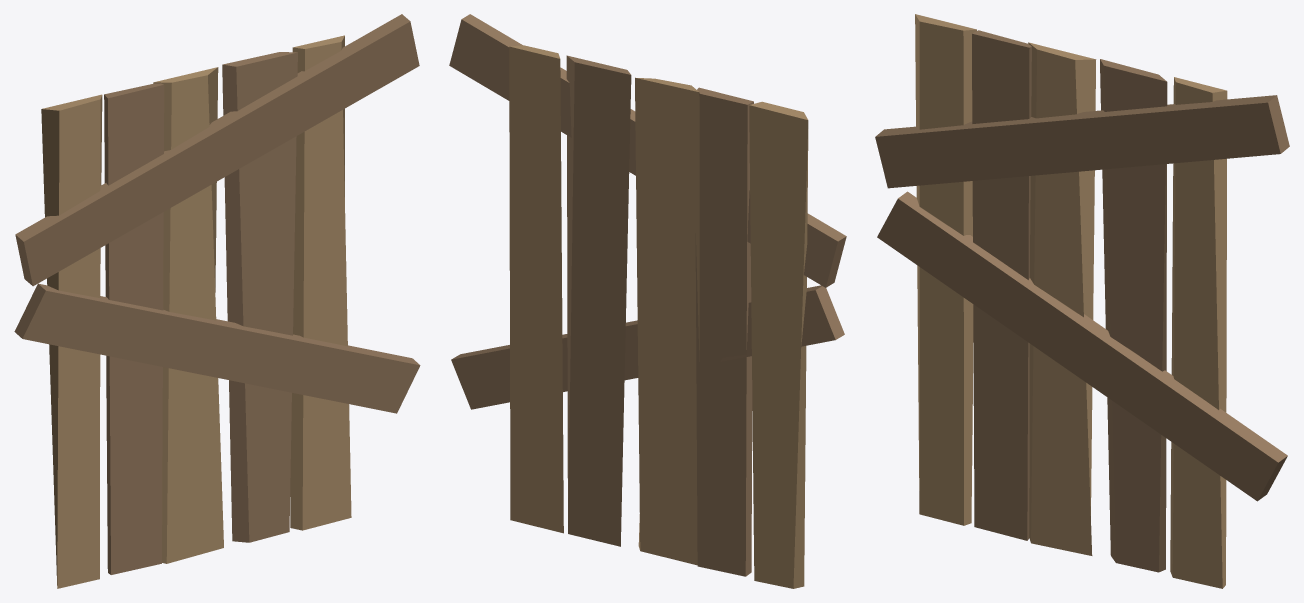
File: D1_door_shatter.fbx
3 renders of one model, left to right at view 1: azimuth 30°, elevation 25°; view 2: azimuth 150°, elevation 25°; view 3: azimuth 330°, elevation 25°, orthographic. The views are drawn at different scales.
Visible parts, largest first — view 1: WoodDoorShatter.003, WoodDoorShatter.001, WoodDoorShatter.007, WoodDoorShatter.005, WoodDoorShatter.004, WoodDoorShatter.002, WoodDoorShatter.006; view 2: WoodDoorShatter.004, WoodDoorShatter.003, WoodDoorShatter.006, WoodDoorShatter.005, WoodDoorShatter.002, WoodDoorShatter.001, WoodDoorShatter.007; view 3: WoodDoorShatter.007, WoodDoorShatter.004, WoodDoorShatter.001, WoodDoorShatter.003, WoodDoorShatter.005, WoodDoorShatter.006, WoodDoorShatter.002.
Boxes of the visible parts, box(x1,y1,x2,y2) form: WoodDoorShatter.003: box(222, 52, 297, 542); WoodDoorShatter.001: box(15, 14, 419, 286); WoodDoorShatter.007: box(14, 283, 420, 413); WoodDoorShatter.005: box(104, 83, 164, 574); WoodDoorShatter.004: box(153, 67, 223, 563); WoodDoorShatter.002: box(290, 35, 351, 530); WoodDoorShatter.006: box(41, 94, 102, 588); WoodDoorShatter.004: box(635, 77, 699, 565); WoodDoorShatter.003: box(566, 55, 631, 546); WoodDoorShatter.006: box(749, 101, 808, 588); WoodDoorShatter.005: box(695, 87, 753, 576); WoodDoorShatter.002: box(509, 45, 563, 533); WoodDoorShatter.001: box(449, 14, 846, 287); WoodDoorShatter.007: box(451, 285, 844, 409); WoodDoorShatter.007: box(877, 191, 1287, 501); WoodDoorShatter.004: box(1028, 42, 1096, 555); WoodDoorShatter.001: box(875, 95, 1289, 188); WoodDoorShatter.003: box(1100, 59, 1167, 572); WoodDoorShatter.005: box(972, 30, 1031, 540); WoodDoorShatter.006: box(915, 14, 976, 525); WoodDoorShatter.002: box(1170, 77, 1227, 588).
Size of the model in its own units: 359 by 427 by 21.36.
